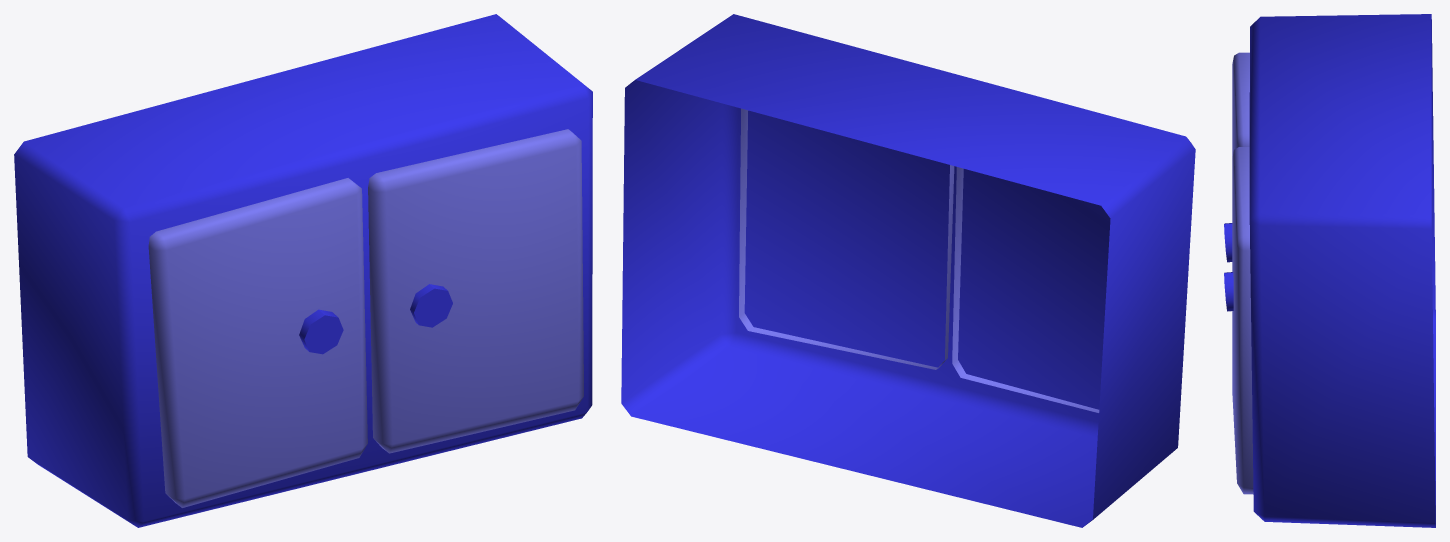
Rendered from BathroomCupBoard.FBX.
The picture shows the model from 3 angles, left to right: view 1: azimuth 30°, elevation 25°; view 2: azimuth 150°, elevation 25°; view 3: azimuth 270°, elevation 25°; orthographic projection. The views are drawn at different scales.
Parts seen in each view (by area): view 1: BathroomCupBoard; view 2: BathroomCupBoard; view 3: BathroomCupBoard.
Boxes of the visible parts, x1,y1,x2,y2 form: BathroomCupBoard: [14, 14, 592, 527]; BathroomCupBoard: [621, 14, 1195, 527]; BathroomCupBoard: [1224, 14, 1435, 527].
Bounding box in the file's own units: 3.96 × 2.62 × 1.6.
